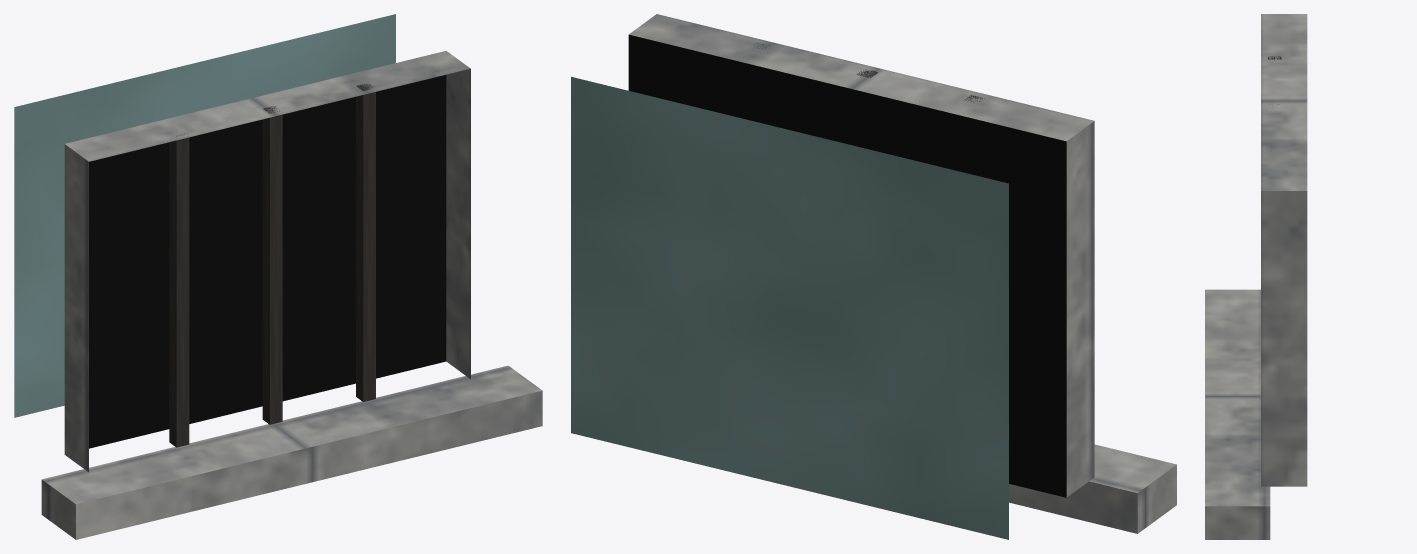
File: ph_window.fbx
3 views of the same model, side by side, from view 1: azimuth 30°, elevation 25°; view 2: azimuth 150°, elevation 25°; view 3: azimuth 270°, elevation 25° (orthographic). The views are drawn at different scales.
Parts seen in each view (by area): view 1: ph_window; view 2: ph_window; view 3: ph_window.
Boxes of the visible parts, left/top/right/bottom form: ph_window: left=14, top=14, right=542, bottom=539; ph_window: left=571, top=14, right=1176, bottom=539; ph_window: left=1205, top=14, right=1307, bottom=539.
Bounding box in the file's own units: 1.1 × 0.78 × 0.425.
Materials: 2 (2 with a texture image).
